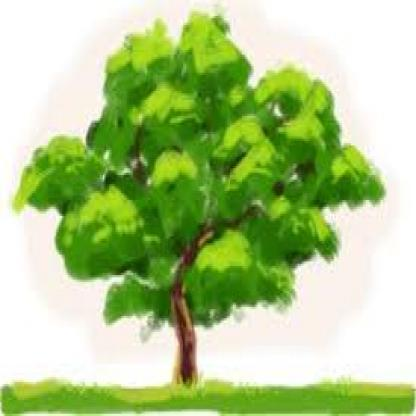crown_dizzy: (12, 5, 389, 336)
root_none: (145, 376, 239, 403)
trunk_straight: (169, 330, 202, 374)
